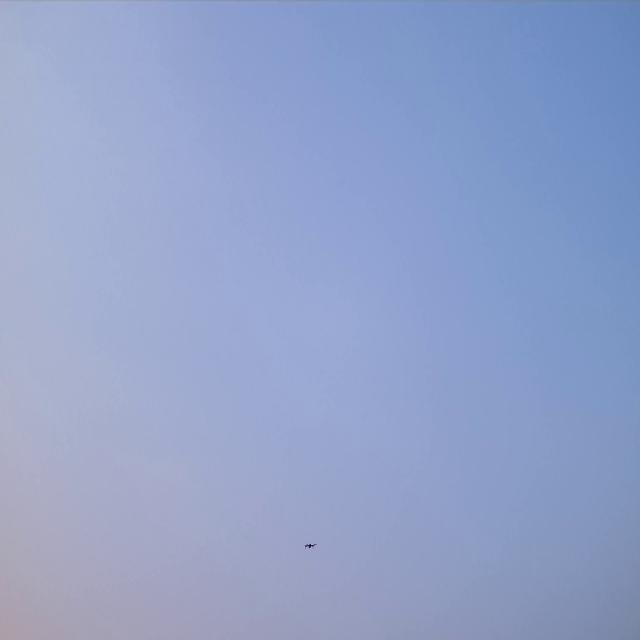UAV: (304, 536, 318, 552)
